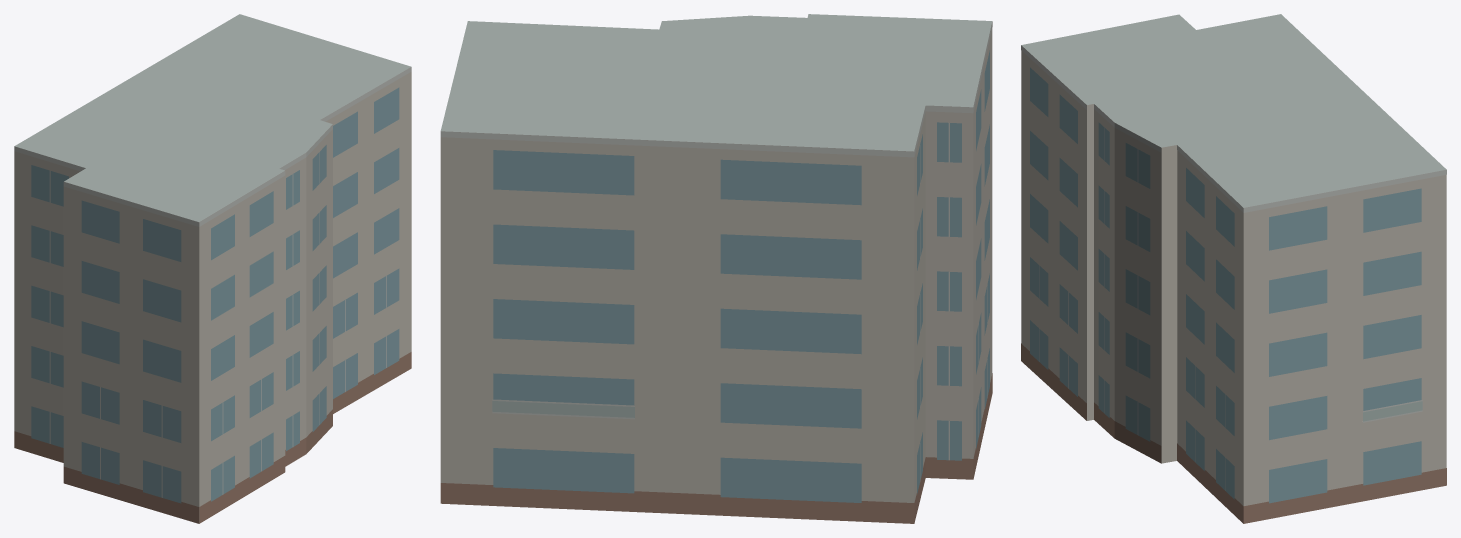
Rendered from survey-upis-32587604.glb.
3 renders of one model, left to right at view 1: azimuth 30°, elevation 25°; view 2: azimuth 150°, elevation 25°; view 3: azimuth 270°, elevation 25°, orthographic. The views are drawn at different scales.
Visible parts, largest first — view 1: survey-upis-32587604.tmp; view 2: survey-upis-32587604.tmp; view 3: survey-upis-32587604.tmp.
Boxes of the visible parts, x1=… form: survey-upis-32587604.tmp: x1=14, y1=14, x2=411, y2=523; survey-upis-32587604.tmp: x1=440, y1=14, x2=992, y2=523; survey-upis-32587604.tmp: x1=1021, y1=14, x2=1446, y2=523.
Size of the model in its own units: 20.09 by 15.25 by 18.63.
